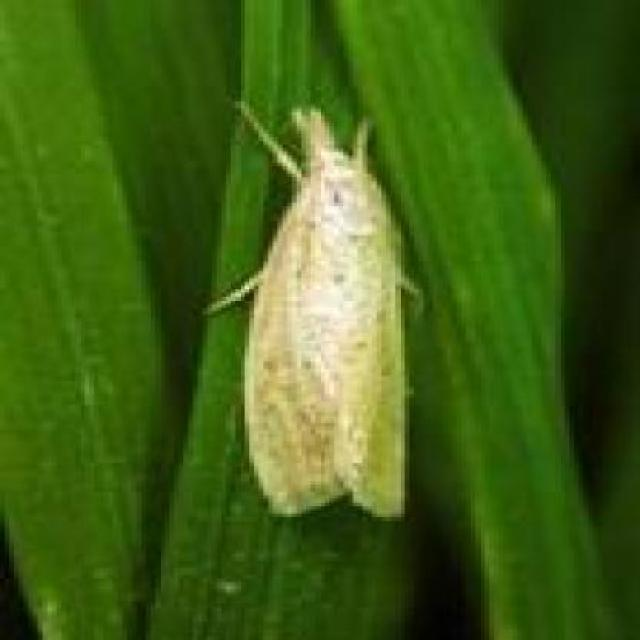stem-borer: (229, 96, 425, 524)
